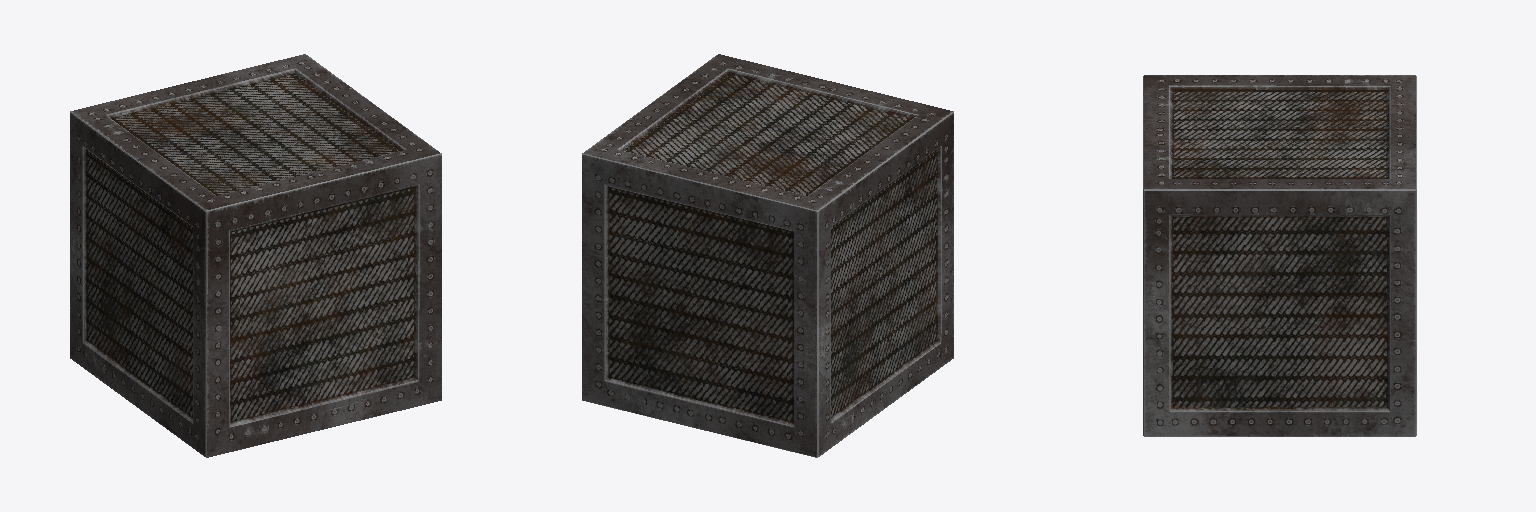
3 renders of one model, left to right at view 1: azimuth 30°, elevation 25°; view 2: azimuth 150°, elevation 25°; view 3: azimuth 270°, elevation 25°, orthographic.
Parts seen in each view (by area): view 1: pCube15_Mesh; view 2: pCube15_Mesh; view 3: pCube15_Mesh.
Boxes of the visible parts, x1=… form: pCube15_Mesh: x1=70, y1=54, x2=441, y2=457; pCube15_Mesh: x1=582, y1=54, x2=953, y2=457; pCube15_Mesh: x1=1143, y1=75, x2=1416, y2=436.
Size of the model in its own units: 1.03 by 1.03 by 1.03.
Materials: 1 (1 with a texture image).